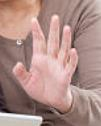down: (11, 15, 78, 108)
